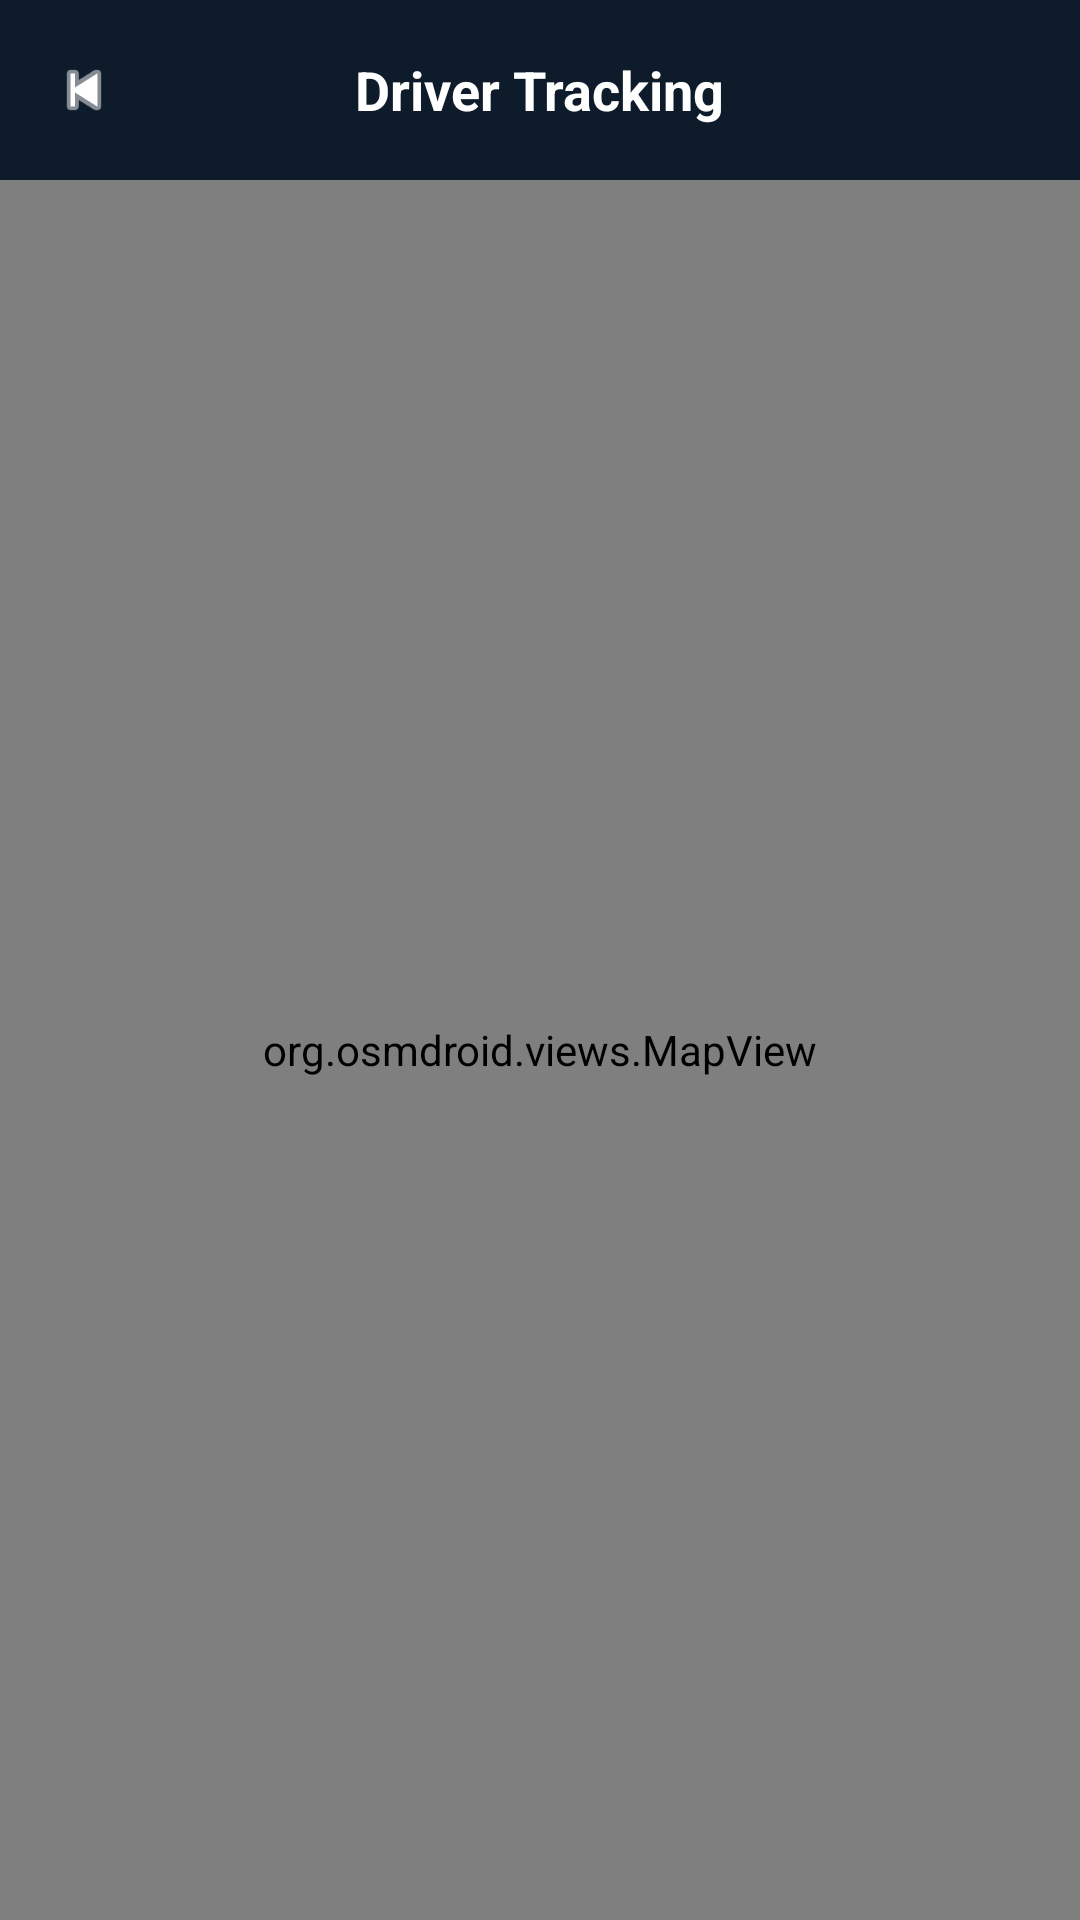

Where to tap for icons on this 1080px×1920px app screen, as [x,y]:
previous: [84,90]
